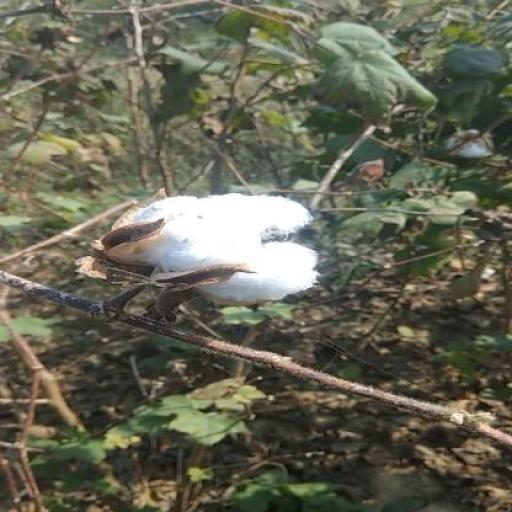cotton_ready: (107, 182, 325, 326)
